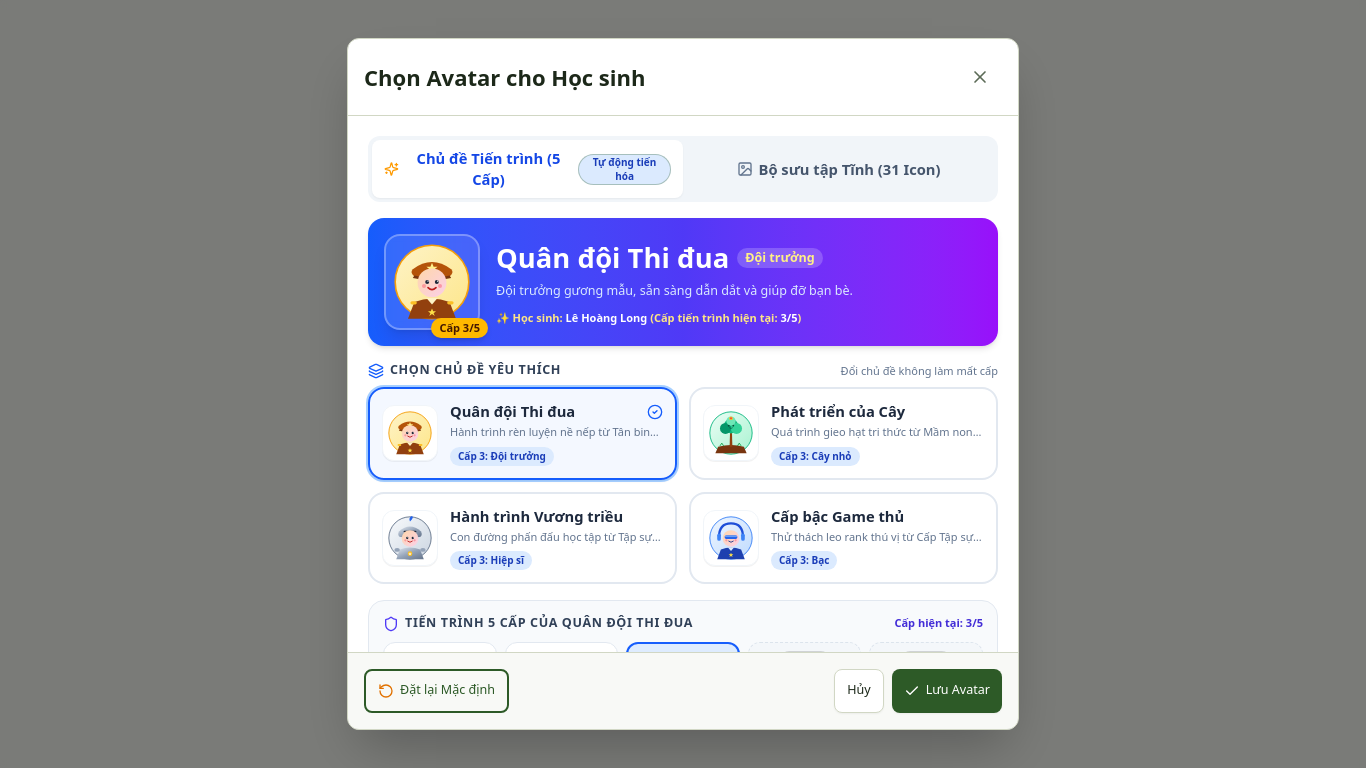
AvatarPickerModal Component Tests (FEAT-STUD-005) › 2. Switches between theme cards and updates 5-stage timeline
// Click Plant Growth theme card
Click the heading "Phát triển của Cây" at [838, 412], box [771, 401, 905, 422]
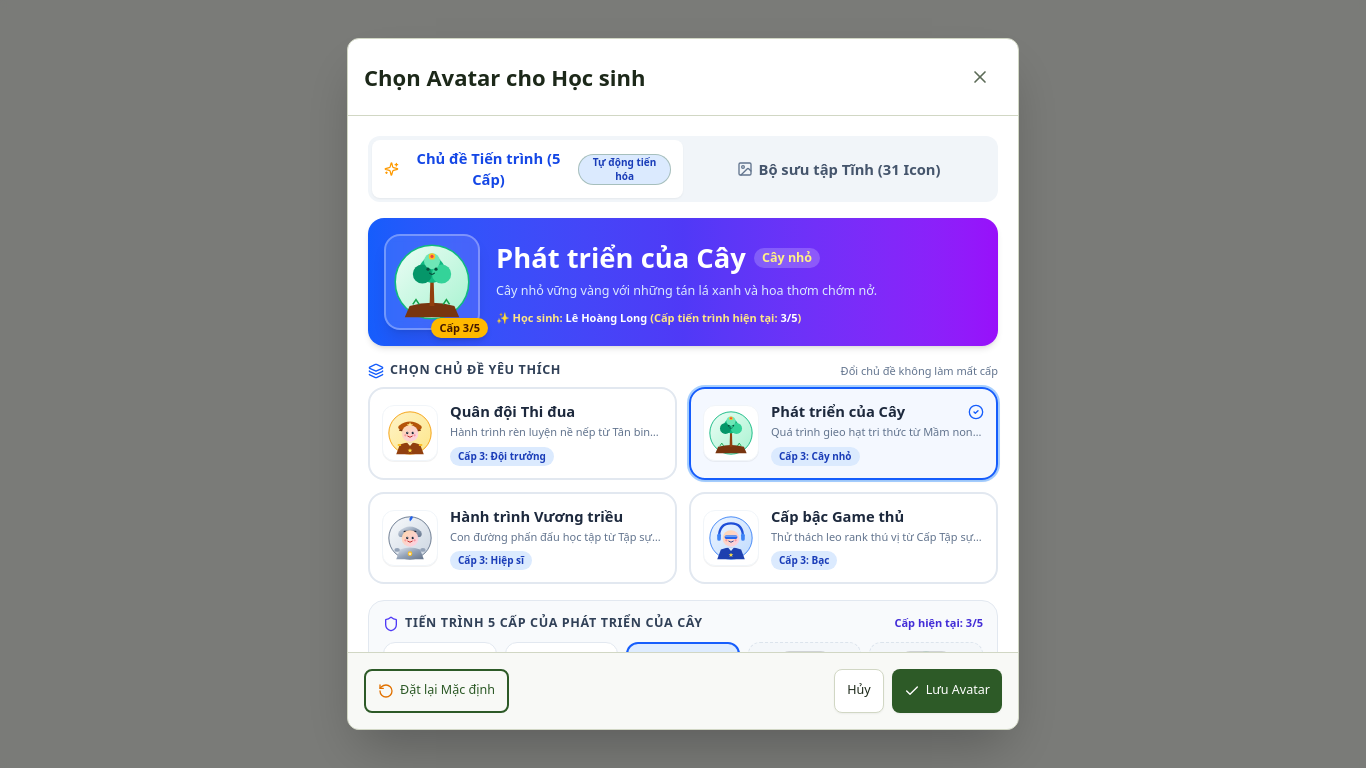
Result: the text "Tiến trình 5 Cấp của Phát triển của Cây" is shown at [383, 615, 703, 632]
Result: the text "Cây nhỏ" is shown at [754, 248, 820, 268]
